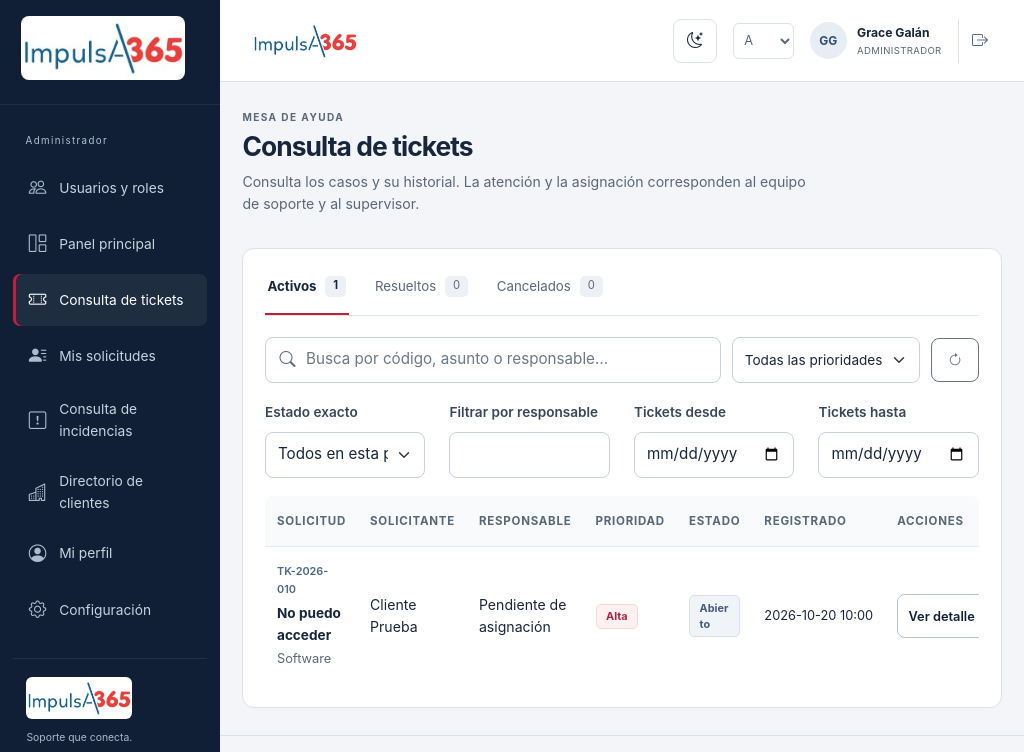
Test: Migración React › muestra mensajes con HTML como texto y no crea nodos ejecutables
Step 1. Click the button "Ver detalle" → (952, 616), box [897, 594, 1008, 638]
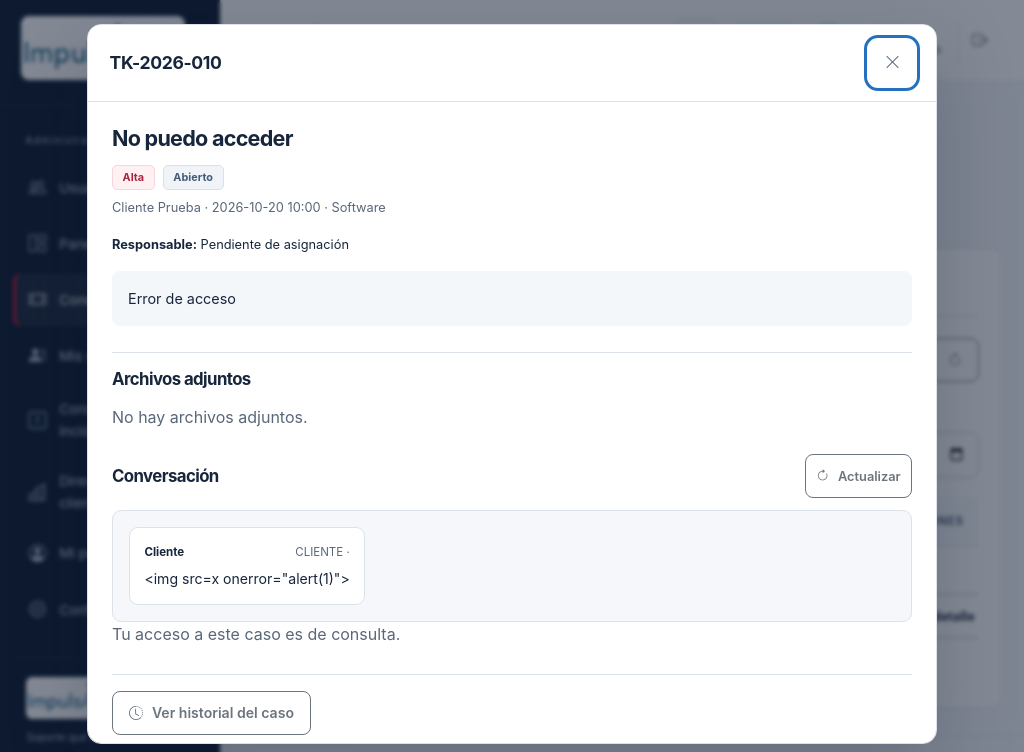
expect the text "<img src=x onerror=\"alert(1)\">" is shown: met, box [144, 568, 350, 590]
